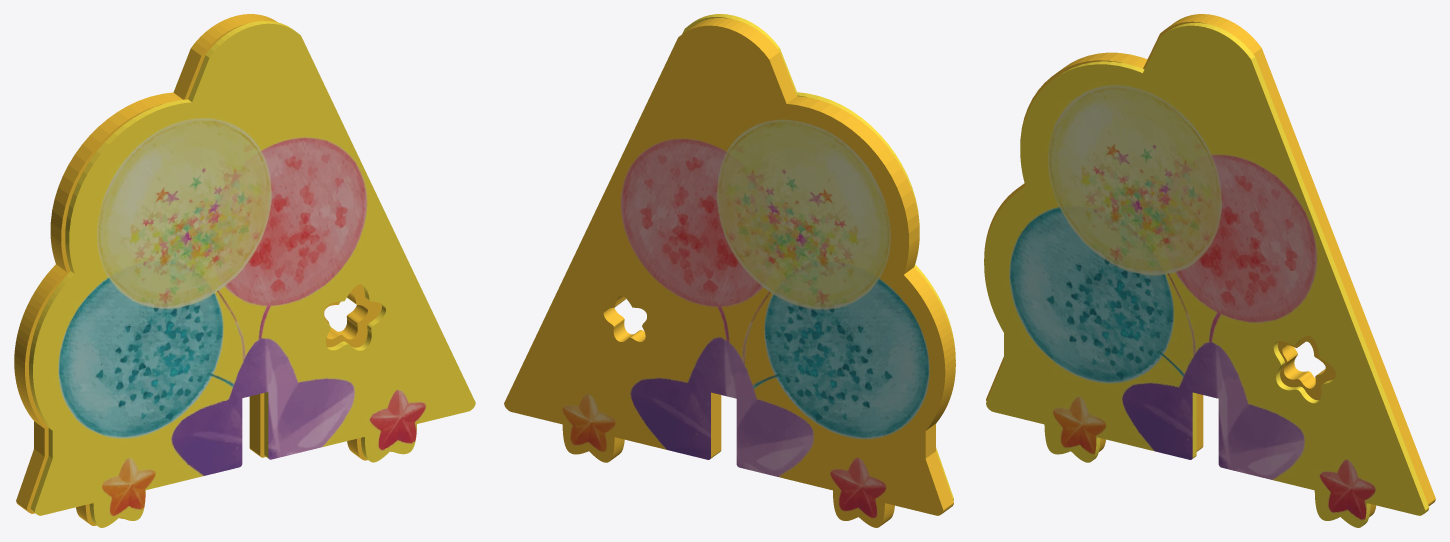
Rendered from narrow-right-top.glb.
The picture shows the model from 3 angles, left to right: view 1: azimuth 30°, elevation 25°; view 2: azimuth 150°, elevation 25°; view 3: azimuth 330°, elevation 25°; orthographic projection.
Parts seen in each view (by area): view 1: narrow-right-top; view 2: narrow-right-top; view 3: narrow-right-top.
Boxes of the visible parts, x1,y1,x2,y2 form: narrow-right-top: [14, 14, 475, 527]; narrow-right-top: [504, 14, 955, 527]; narrow-right-top: [984, 14, 1435, 527].
Size of the model in its own units: 581 by 579 by 33.
4 materials, 2 textured.
